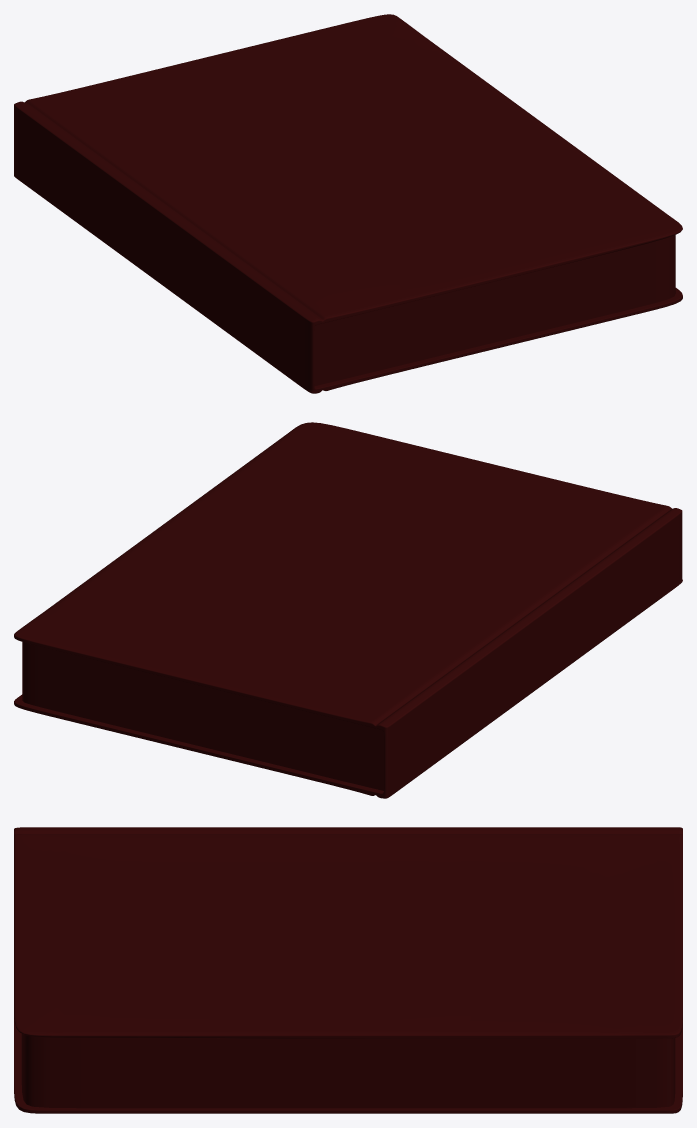
Rendered from Notebook.obj.
3 renders of one model, top to bottom at view 1: azimuth 30°, elevation 25°; view 2: azimuth 150°, elevation 25°; view 3: azimuth 270°, elevation 25°, orthographic. The views are drawn at different scales.
Visible parts, largest first — view 1: Notebook_Cube.008, BookTitle_Cube.009; view 2: Notebook_Cube.008, BookTitle_Cube.009; view 3: Notebook_Cube.008, BookTitle_Cube.009.
Boxes of the visible parts, <box> form: Notebook_Cube.008: <box>14,14,682,393</box>; BookTitle_Cube.009: <box>46,21,461,166</box>; Notebook_Cube.008: <box>14,422,682,798</box>; BookTitle_Cube.009: <box>25,573,455,712</box>; Notebook_Cube.008: <box>14,827,682,1113</box>; BookTitle_Cube.009: <box>470,837,656,1032</box>.
Size of the model in its own units: 0.11 by 0.0206 by 0.15.
